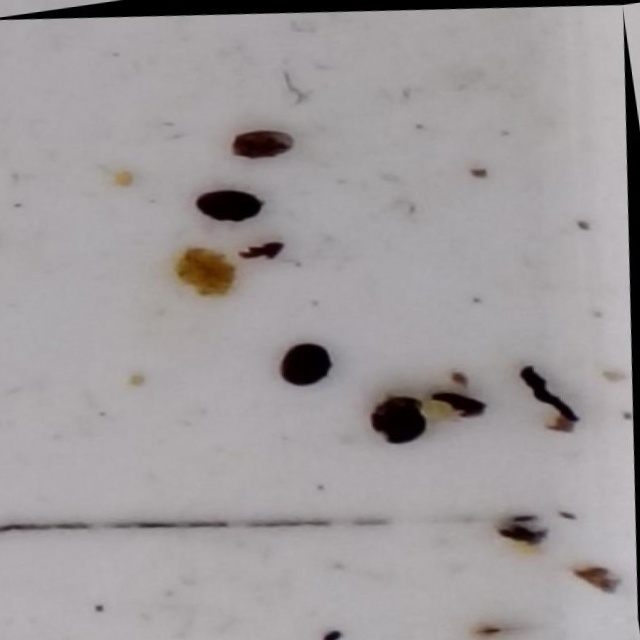varroa: (373, 386, 439, 440), (280, 332, 342, 388), (196, 183, 272, 226)
